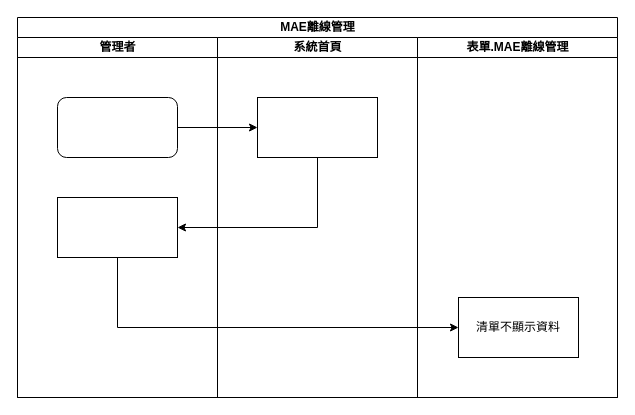
The diagram is 635 pixels wide and 415 high, and some of its shapes have lost their labels. Each missing label, with the centre of its shape:
依據登入人員權限 顯示左方選單: [317,127]
管理者 登入系統: [117,127]
點擊 表單.MAE離線管理: [117,227]
